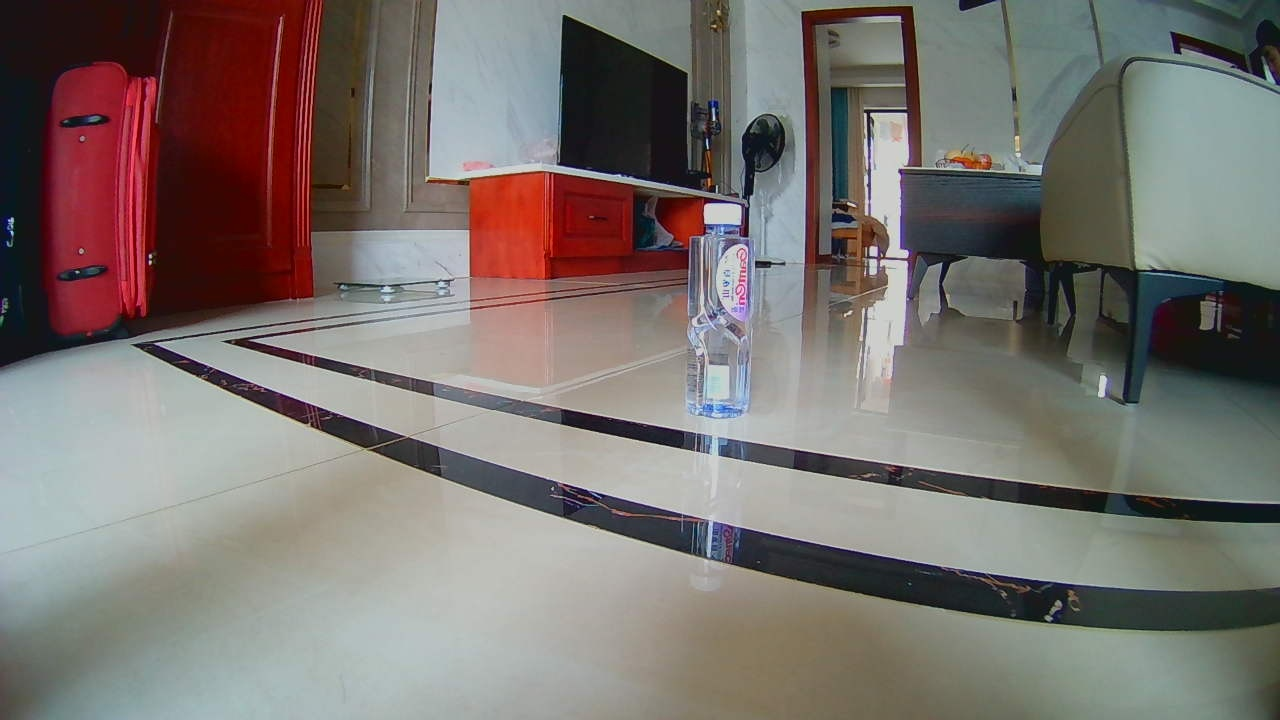water: (689, 203, 747, 418)
